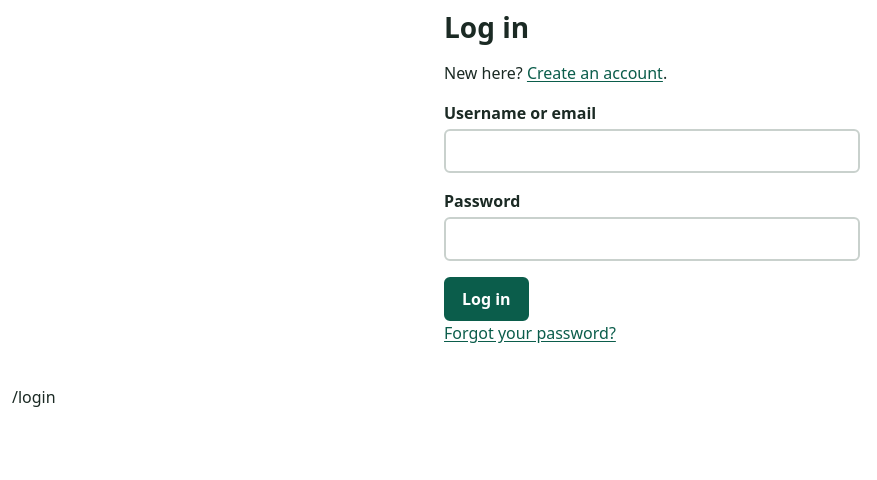
Login page › marks a wrong field as invalid and links it to its message
Click the button "Log in": (486, 299) [444,277,529,321]
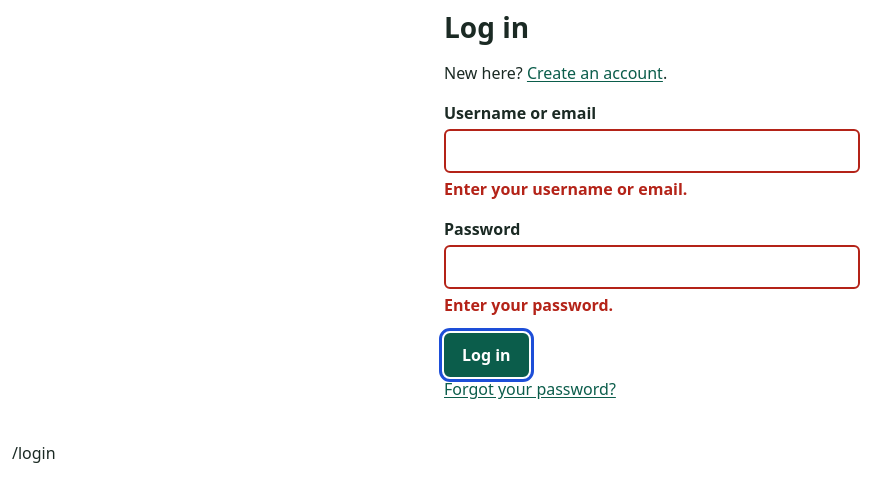
Now the text "Enter your username or email." is shown, box [444,178,687,200]
